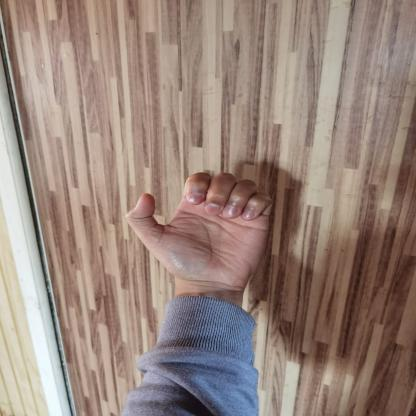E: (115, 162, 288, 299)
